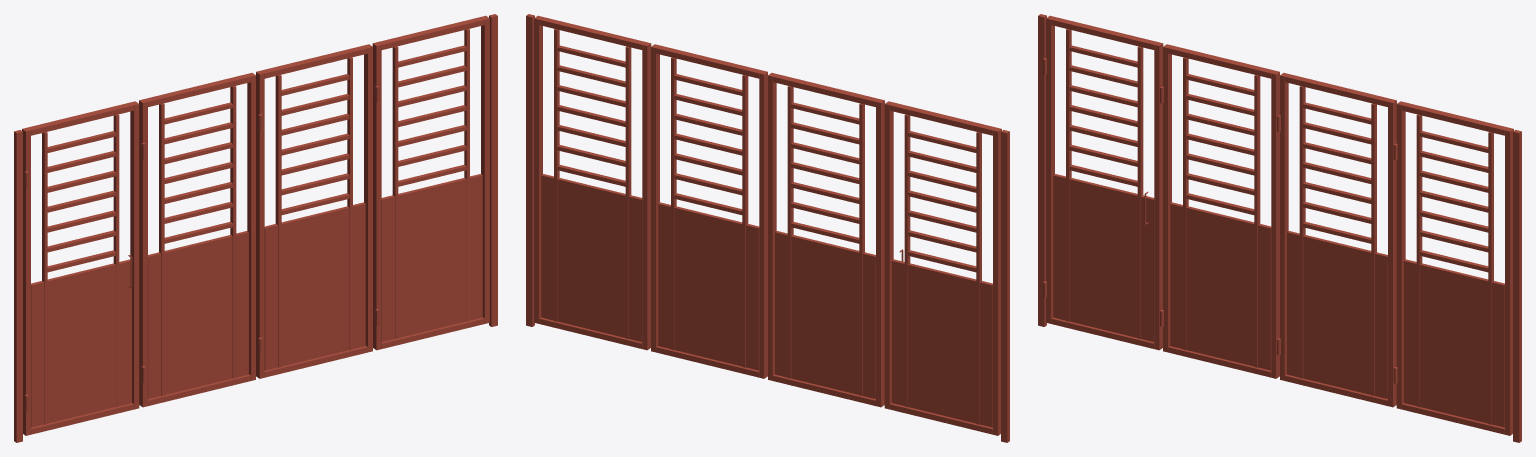
The model's file is terracotta-grille-and-solid-panel-gate-08.glb.
3 views of the same model, side by side, from view 1: azimuth 30°, elevation 25°; view 2: azimuth 150°, elevation 25°; view 3: azimuth 330°, elevation 25° (orthographic).
Visible parts, largest first — view 1: Leaf 3 / Lower solid terracotta panel, Leaf 4 / Lower solid terracotta panel, Leaf 1 / Lower solid terracotta panel, Leaf 2 / Lower solid terracotta panel, Leaf 3 / Leaf frame, Leaf 4 / Leaf frame, Leaf 2 / Leaf frame, Leaf 1 / Leaf frame, Outer installation jamb, Leaf 2 / Upper inset grille, Leaf 4 / Upper inset grille, Leaf 1 / Upper inset grille (+5 smaller); view 2: Leaf 1 / Lower solid terracotta panel, Leaf 3 / Lower solid terracotta panel, Leaf 4 / Lower solid terracotta panel, Leaf 2 / Lower solid terracotta panel, Leaf 4 / Leaf frame, Leaf 3 / Leaf frame, Leaf 1 / Leaf frame, Leaf 2 / Leaf frame, Outer installation jamb, Leaf 2 / Upper inset grille, Leaf 4 / Upper inset grille, Leaf 1 / Upper inset grille (+5 smaller); view 3: Leaf 4 / Lower solid terracotta panel, Leaf 2 / Lower solid terracotta panel, Leaf 1 / Lower solid terracotta panel, Leaf 3 / Lower solid terracotta panel, Leaf 1 / Leaf frame, Leaf 2 / Leaf frame, Leaf 4 / Leaf frame, Leaf 3 / Leaf frame, Outer installation jamb, Leaf 3 / Upper inset grille, Leaf 1 / Upper inset grille, Leaf 4 / Upper inset grille (+5 smaller).
Part boxes in pixels (bbox=[...]): Leaf 3 / Lower solid terracotta panel: bbox=[264, 202, 365, 370]; Leaf 4 / Lower solid terracotta panel: bbox=[381, 174, 482, 341]; Leaf 1 / Lower solid terracotta panel: bbox=[31, 259, 131, 427]; Leaf 2 / Lower solid terracotta panel: bbox=[148, 231, 248, 398]; Leaf 3 / Leaf frame: bbox=[256, 44, 372, 378]; Leaf 4 / Leaf frame: bbox=[372, 15, 489, 350]; Leaf 2 / Leaf frame: bbox=[139, 73, 255, 407]; Leaf 1 / Leaf frame: bbox=[22, 101, 139, 435]; Outer installation jamb: bbox=[14, 14, 497, 442]; Leaf 2 / Upper inset grille: bbox=[164, 102, 232, 243]; Leaf 4 / Upper inset grille: bbox=[398, 45, 466, 186]; Leaf 1 / Upper inset grille: bbox=[47, 131, 115, 272]; Leaf 1 / Lower solid terracotta panel: bbox=[892, 259, 992, 427]; Leaf 3 / Lower solid terracotta panel: bbox=[658, 202, 759, 370]; Leaf 4 / Lower solid terracotta panel: bbox=[541, 174, 642, 341]; Leaf 2 / Lower solid terracotta panel: bbox=[775, 231, 875, 398]; Leaf 4 / Leaf frame: bbox=[534, 15, 651, 350]; Leaf 3 / Leaf frame: bbox=[651, 44, 767, 378]; Leaf 1 / Leaf frame: bbox=[884, 101, 1001, 435]; Leaf 2 / Leaf frame: bbox=[768, 73, 884, 407]; Outer installation jamb: bbox=[526, 14, 1009, 442]; Leaf 2 / Upper inset grille: bbox=[791, 102, 859, 243]; Leaf 4 / Upper inset grille: bbox=[557, 45, 625, 186]; Leaf 1 / Upper inset grille: bbox=[908, 131, 976, 272]; Leaf 4 / Lower solid terracotta panel: bbox=[1404, 259, 1504, 427]; Leaf 2 / Lower solid terracotta panel: bbox=[1170, 202, 1271, 370]; Leaf 1 / Lower solid terracotta panel: bbox=[1053, 174, 1154, 341]; Leaf 3 / Lower solid terracotta panel: bbox=[1287, 231, 1387, 398]; Leaf 1 / Leaf frame: bbox=[1046, 15, 1163, 350]; Leaf 2 / Leaf frame: bbox=[1163, 44, 1279, 378]; Leaf 4 / Leaf frame: bbox=[1396, 101, 1513, 435]; Leaf 3 / Leaf frame: bbox=[1280, 73, 1396, 407]; Outer installation jamb: bbox=[1038, 14, 1521, 442]; Leaf 3 / Upper inset grille: bbox=[1303, 102, 1371, 243]; Leaf 1 / Upper inset grille: bbox=[1069, 45, 1137, 186]; Leaf 4 / Upper inset grille: bbox=[1420, 131, 1488, 272].
Bounding box in the file's own units: 3.3 × 2.02 × 0.088.
